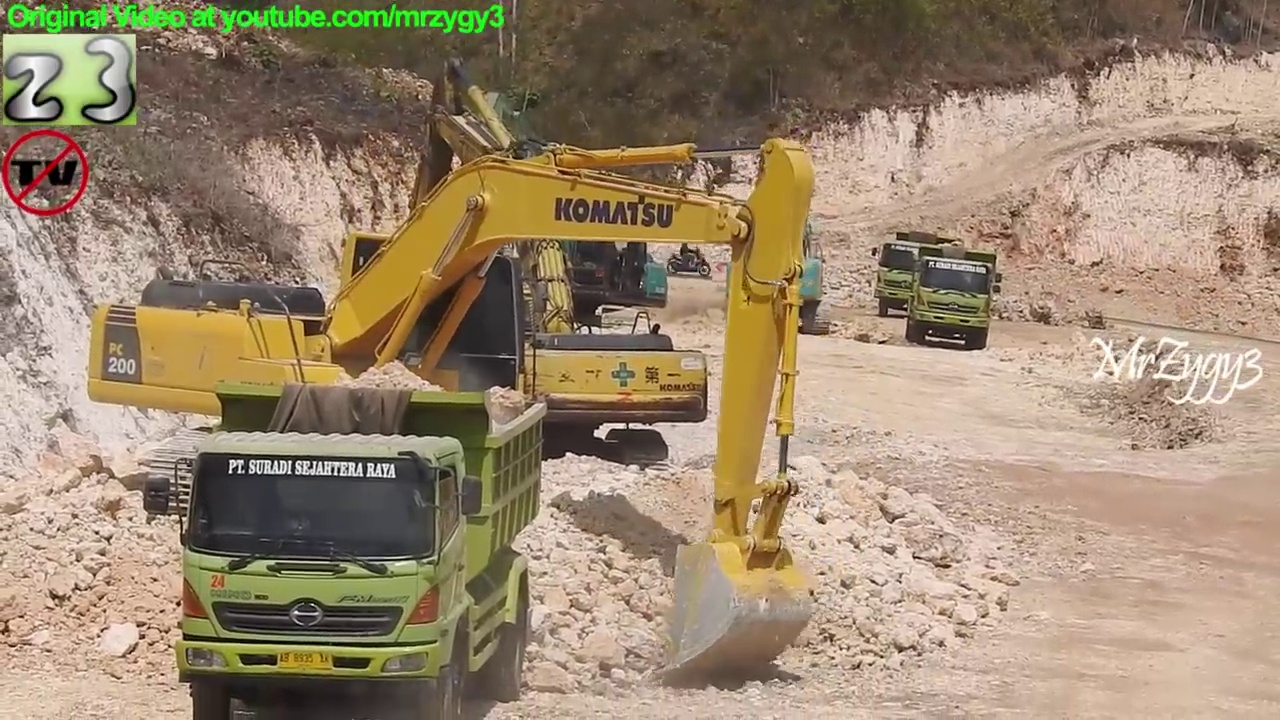excavator: (84, 133, 827, 693), (298, 55, 715, 488), (420, 83, 671, 347), (716, 182, 836, 336)
truck: (141, 375, 548, 720), (902, 238, 1006, 354), (869, 226, 968, 321)
